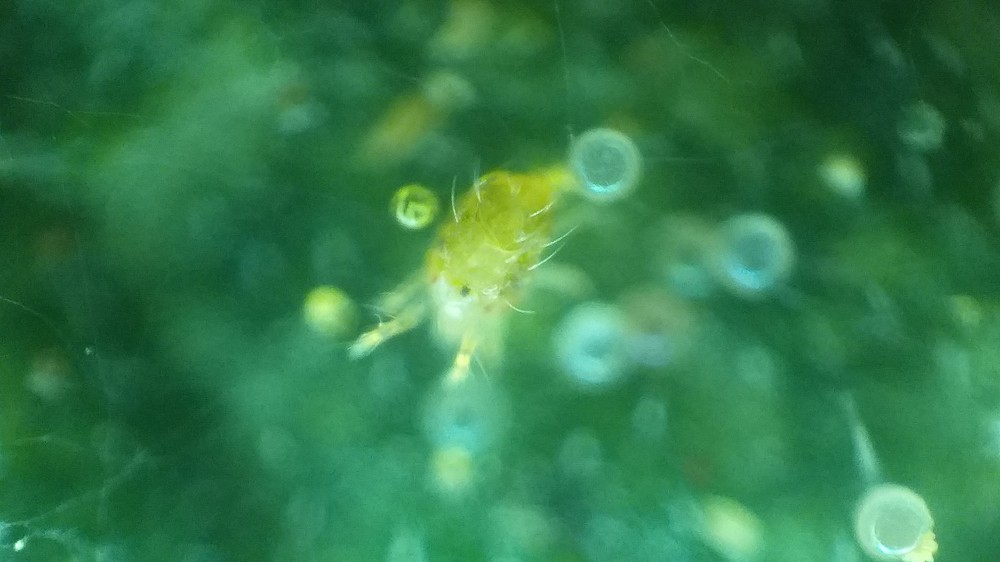Aracnido Rojo: (360, 157, 584, 397)
